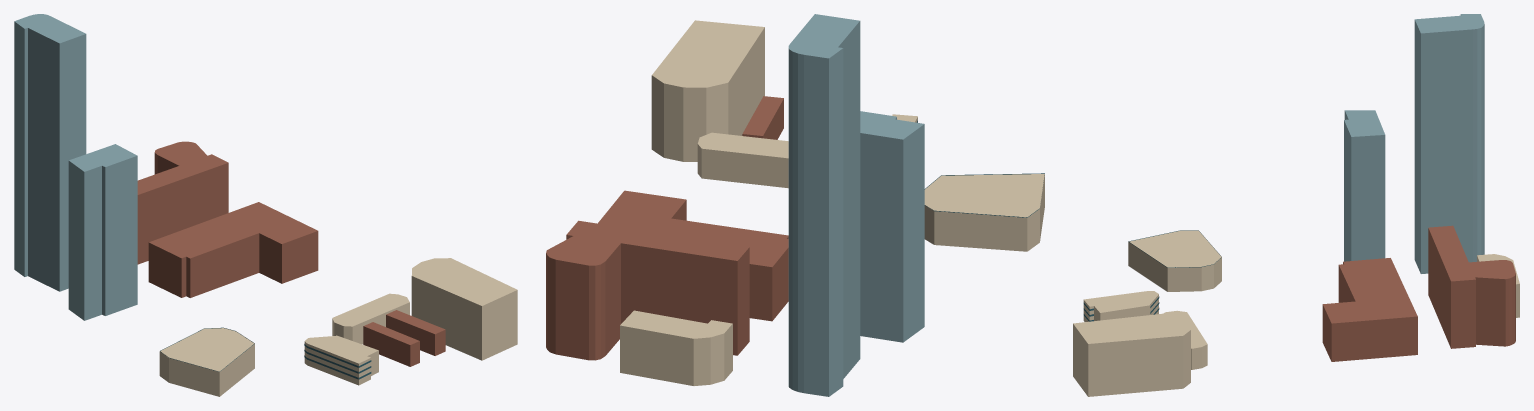
The model's file is city_-4_-3.glb.
The picture shows the model from 3 angles, left to right: view 1: azimuth 30°, elevation 25°; view 2: azimuth 150°, elevation 25°; view 3: azimuth 270°, elevation 25°; orthographic projection. The views are drawn at different scales.
Visible parts, largest first — view 1: city_-4_-3; view 2: city_-4_-3; view 3: city_-4_-3.
Boxes of the visible parts, x1=… form: city_-4_-3: x1=14, y1=14, x2=517, y2=396; city_-4_-3: x1=546, y1=14, x2=1044, y2=396; city_-4_-3: x1=1073, y1=14, x2=1519, y2=396.
Size of the model in its own units: 216 by 170 by 286.
